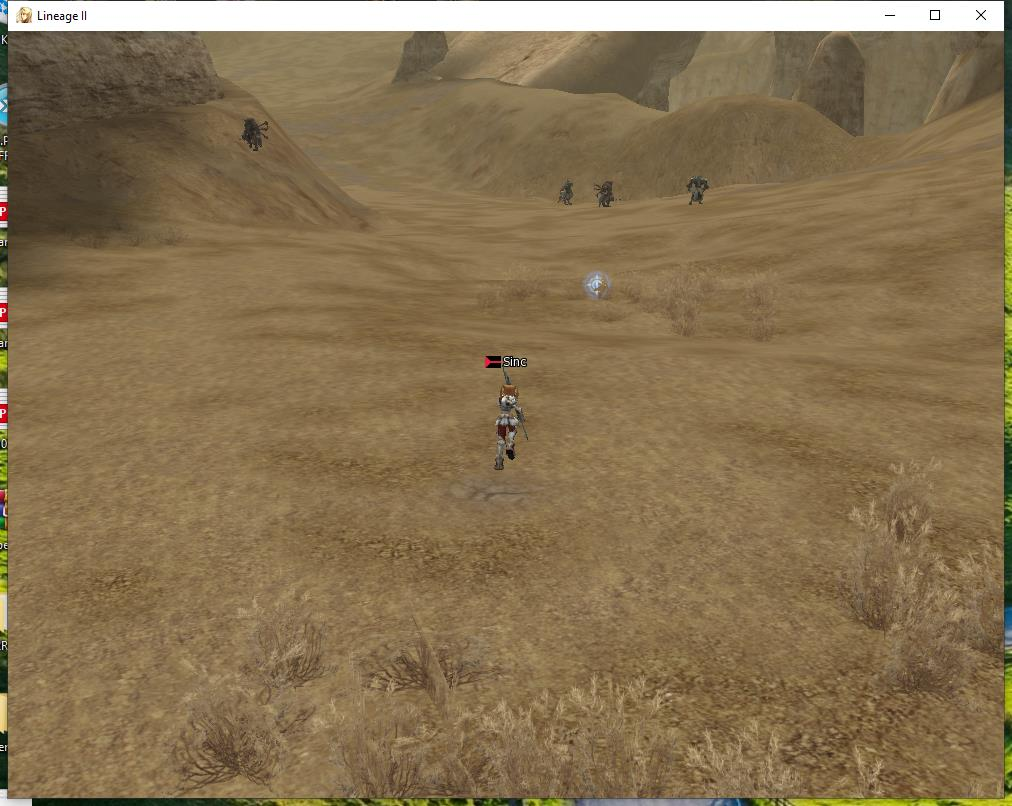monster: (238, 112, 271, 148), (591, 174, 616, 204), (558, 175, 576, 212), (694, 176, 709, 206)
